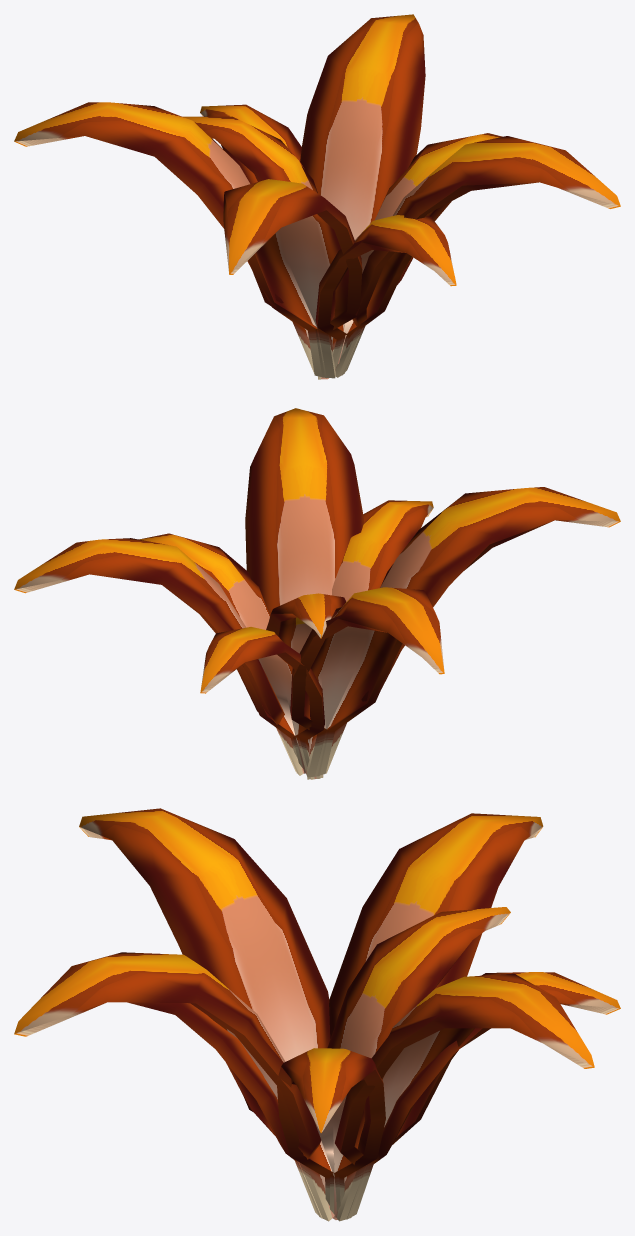
Rendered from Plant.fbx.
3 renders of one model, top to bottom at view 1: azimuth 30°, elevation 25°; view 2: azimuth 150°, elevation 25°; view 3: azimuth 270°, elevation 25°, orthographic. The views are drawn at different scales.
Visible parts, largest first — view 1: 고사리; view 2: 고사리; view 3: 고사리.
Part boxes in pixels (<box>): 고사리: <box>14,14,620,379</box>; 고사리: <box>14,408,620,779</box>; 고사리: <box>14,808,620,1221</box>.
Bounding box in the file's own units: 250 × 149 × 257.
